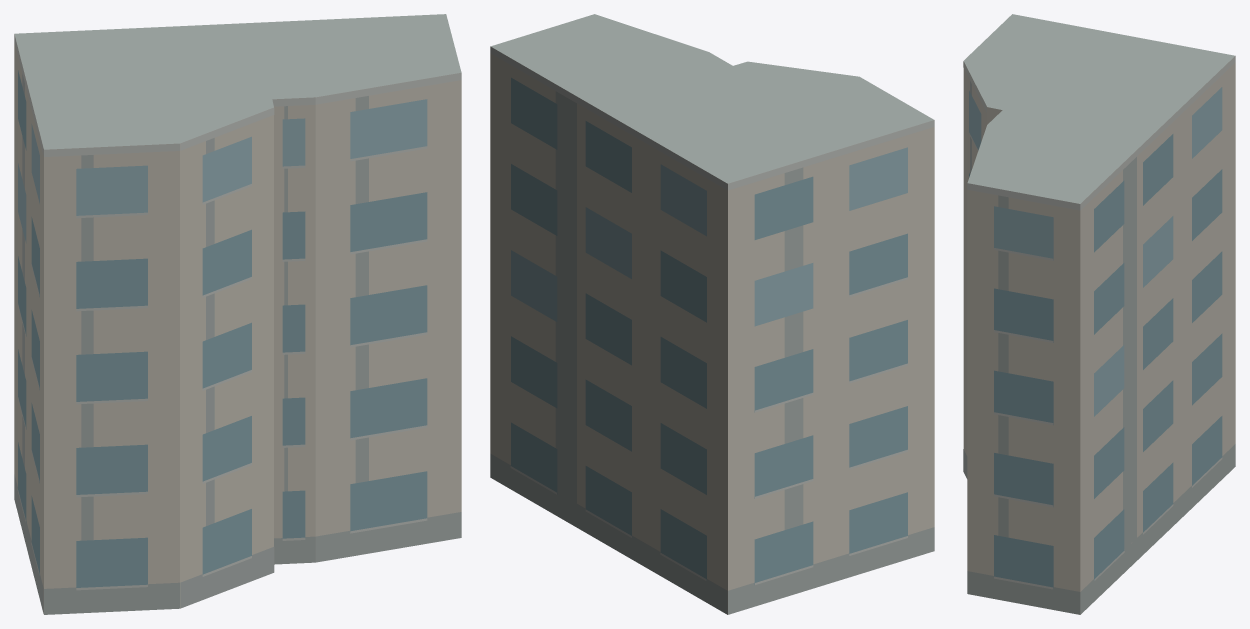
File: survey-upis-32529401.glb
3 renders of one model, left to right at view 1: azimuth 30°, elevation 25°; view 2: azimuth 150°, elevation 25°; view 3: azimuth 270°, elevation 25°, orthographic. The views are drawn at different scales.
Visible parts, largest first — view 1: survey-upis-32529401.tmp; view 2: survey-upis-32529401.tmp; view 3: survey-upis-32529401.tmp.
Part boxes in pixels (x1,y1,x2,y2): survey-upis-32529401.tmp: (14, 14, 461, 614); survey-upis-32529401.tmp: (490, 14, 934, 614); survey-upis-32529401.tmp: (963, 14, 1235, 614).
Size of the model in its own units: 15.13 by 15.25 by 9.16.
